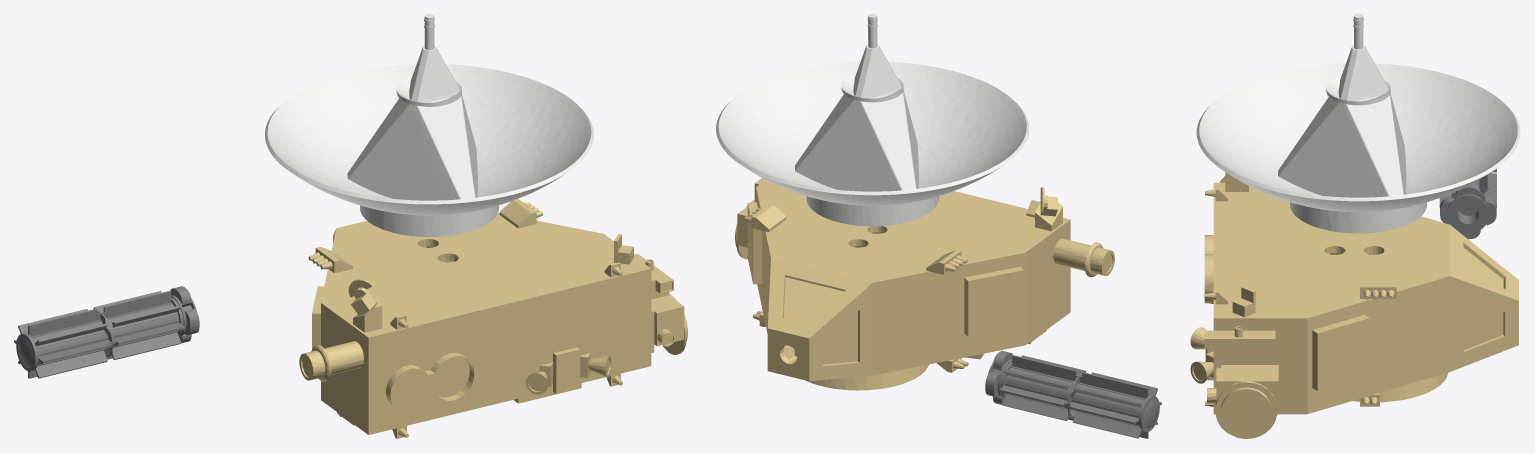
The model's file is new-horizons.glb.
3 renders of one model, left to right at view 1: azimuth 30°, elevation 25°; view 2: azimuth 150°, elevation 25°; view 3: azimuth 270°, elevation 25°, orthographic. The views are drawn at different scales.
Visible parts, largest first — view 1: nh_7399_05_rp_body.stl, nh_7399_05_rp_antenna.stl, nh_7399_05_rp_rtg.stl; view 2: nh_7399_05_rp_body.stl, nh_7399_05_rp_antenna.stl, nh_7399_05_rp_rtg.stl; view 3: nh_7399_05_rp_body.stl, nh_7399_05_rp_antenna.stl, nh_7399_05_rp_rtg.stl.
Part boxes in pixels (x1,y1,x2,y2): nh_7399_05_rp_body.stl: (299, 199, 687, 438); nh_7399_05_rp_antenna.stl: (265, 14, 593, 236); nh_7399_05_rp_rtg.stl: (14, 286, 199, 378); nh_7399_05_rp_body.stl: (735, 178, 1114, 390); nh_7399_05_rp_antenna.stl: (716, 14, 1029, 226); nh_7399_05_rp_rtg.stl: (985, 351, 1161, 438); nh_7399_05_rp_body.stl: (1190, 172, 1518, 438); nh_7399_05_rp_antenna.stl: (1196, 14, 1520, 233); nh_7399_05_rp_rtg.stl: (1439, 168, 1496, 239).
Bounding box in the file's own units: 7.81 × 4.96 × 4.21.
